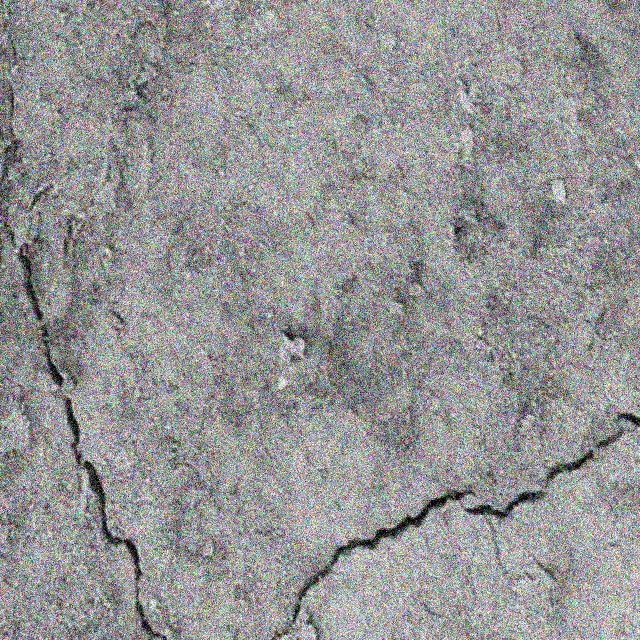SurfaceCrack: (235, 380, 639, 638)
